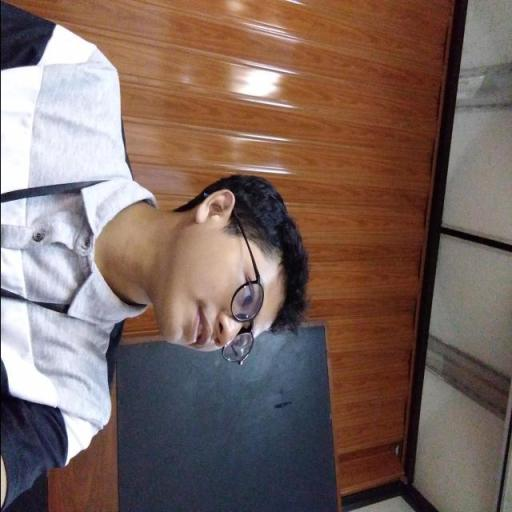glasses: (210, 184, 280, 370)
